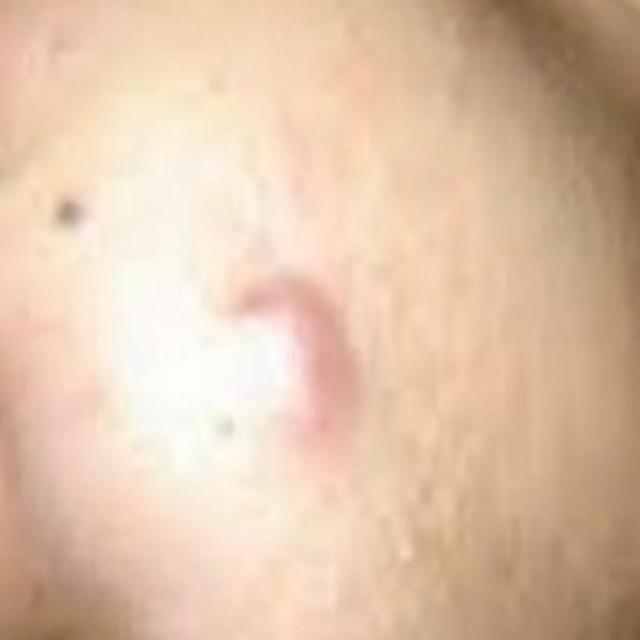nodule: (216, 257, 389, 476)
